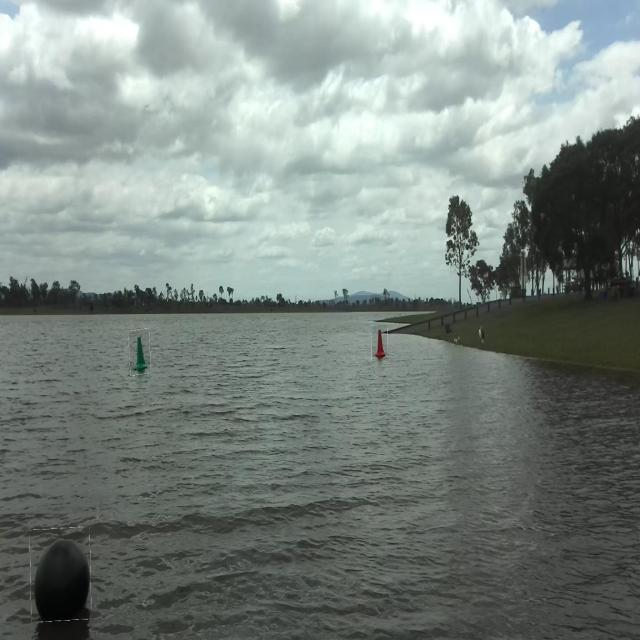Black_Buoy: (28, 527, 92, 620)
Green_Buoy: (128, 327, 151, 378)
Red_Buoy: (374, 324, 390, 361)
